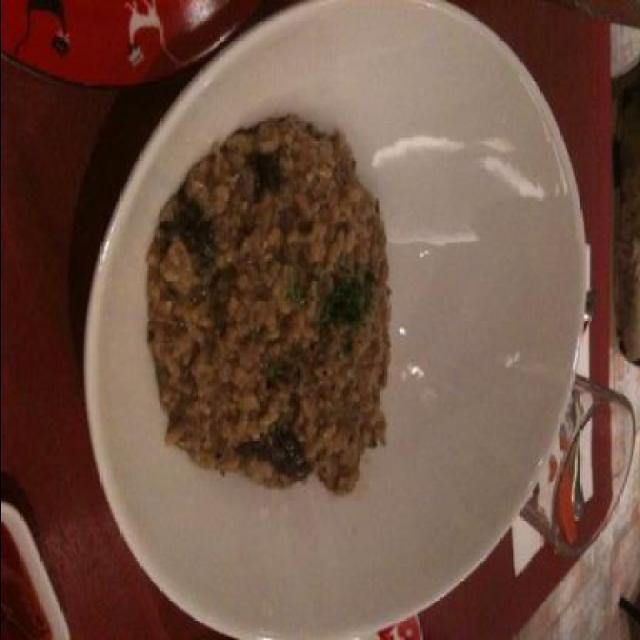Risotto: (158, 120, 410, 516)
